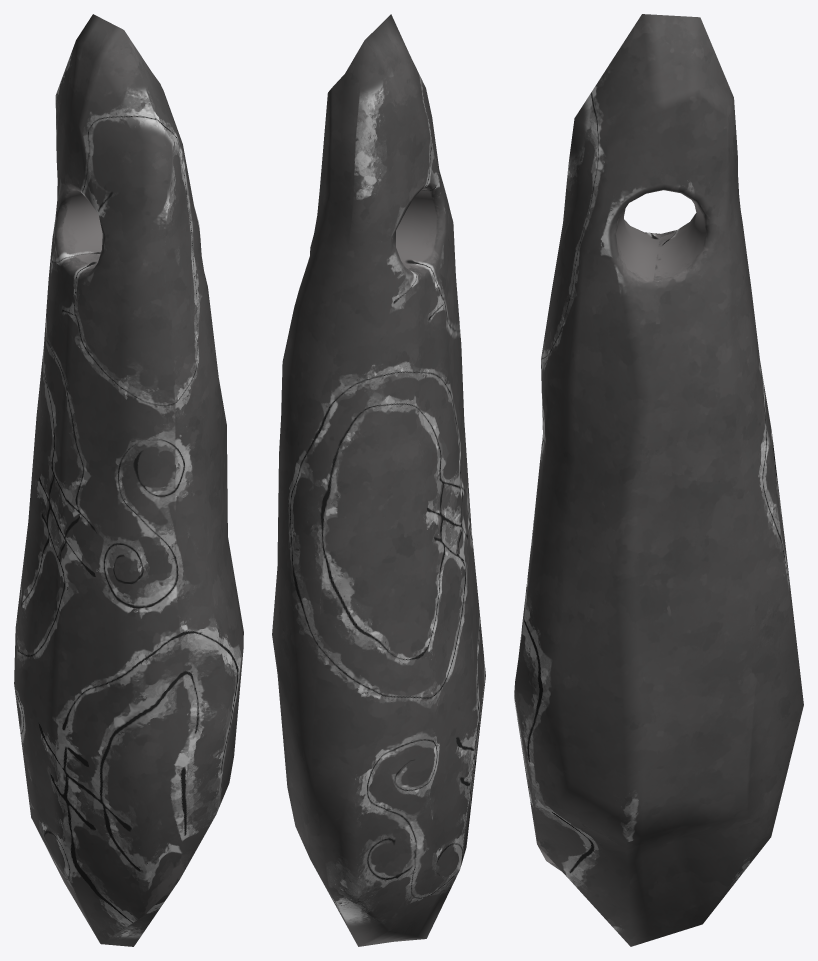
Rendered from Menhir_2_Game.fbx.
3 views of the same model, side by side, from view 1: azimuth 30°, elevation 25°; view 2: azimuth 150°, elevation 25°; view 3: azimuth 270°, elevation 25° (orthographic). The views are drawn at different scales.
Visible parts, largest first — view 1: pCube7; view 2: pCube7; view 3: pCube7.
Part boxes in pixels (bbox=[...]): pCube7: bbox=[14, 14, 243, 946]; pCube7: bbox=[272, 14, 485, 946]; pCube7: bbox=[514, 14, 803, 946].
Bounding box in the file's own units: 3.2 × 14.94 × 4.22.
1 material, 1 textured.
